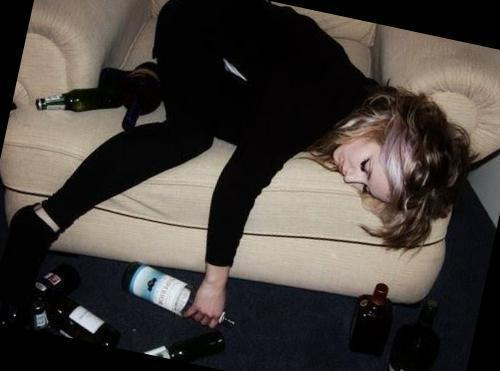Drunk: (333, 139, 401, 203)
